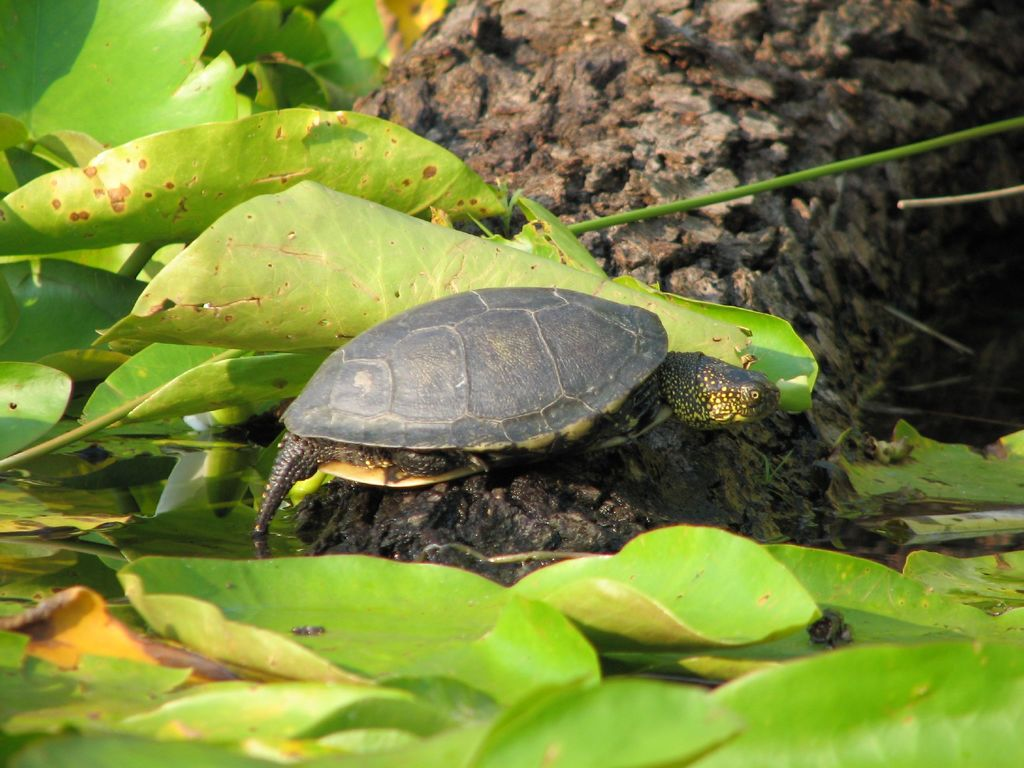Sea turtles: (249, 284, 778, 536)
